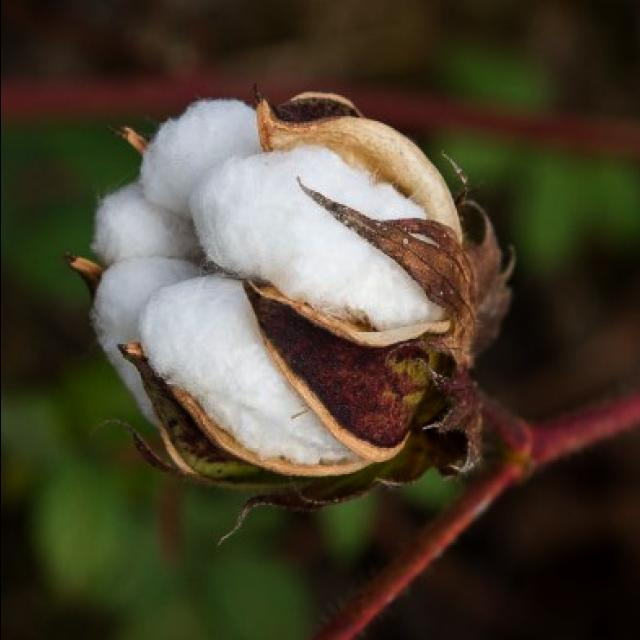Split Cotton Boll: (80, 100, 514, 506)
